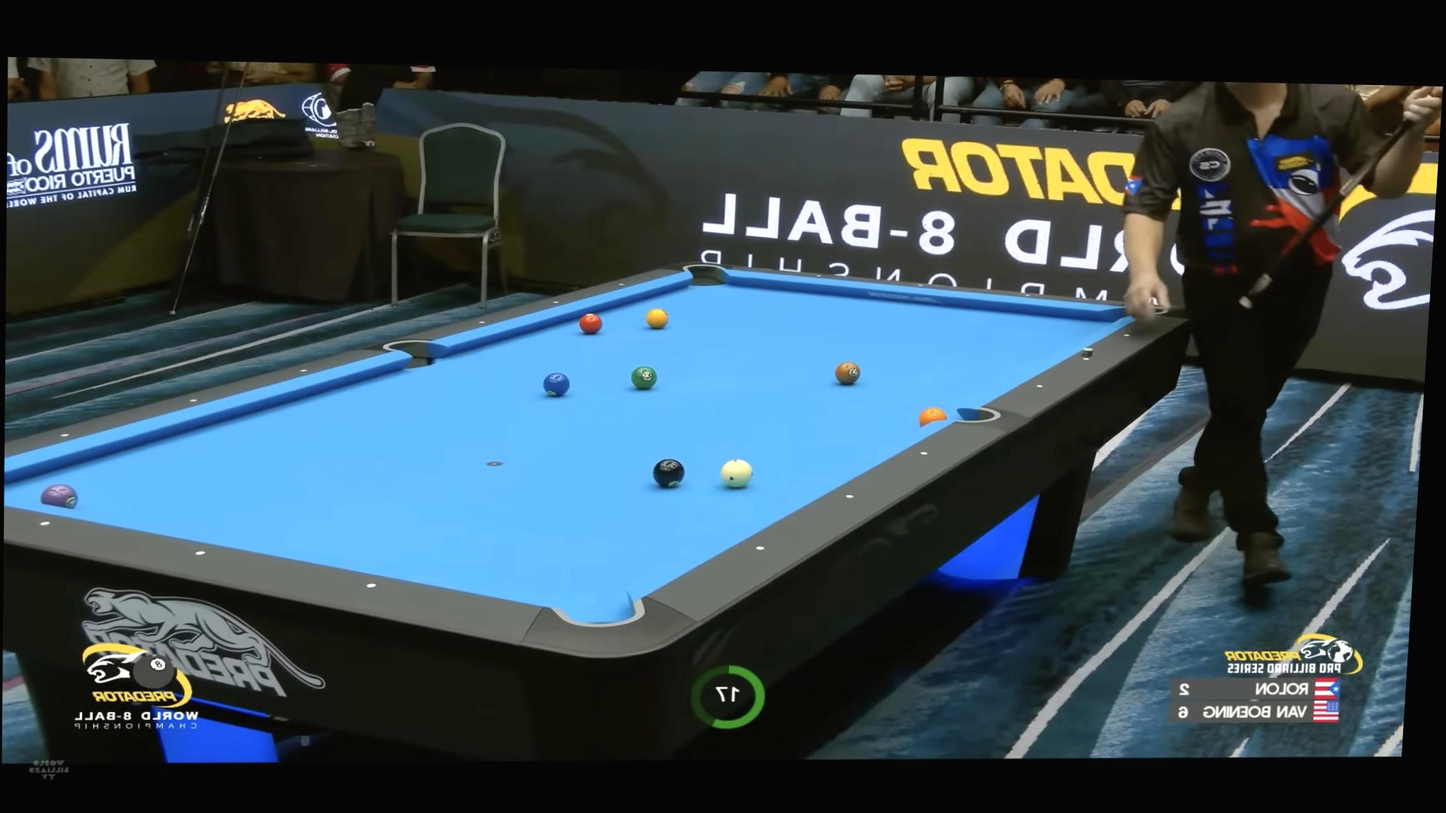Black: (652, 457, 686, 488)
Cue: (720, 458, 753, 489)
Solid: (754, 541, 767, 553), (843, 491, 856, 502), (917, 448, 930, 459), (365, 580, 377, 591), (59, 429, 70, 440), (39, 519, 51, 529), (195, 548, 206, 558), (617, 281, 625, 288), (1036, 383, 1043, 390), (1123, 332, 1130, 339), (478, 319, 485, 326), (552, 299, 559, 306), (1082, 356, 1090, 362), (190, 398, 197, 404), (300, 368, 307, 374), (1025, 293, 1031, 299), (917, 282, 923, 288), (816, 273, 822, 278)
Striped: (41, 484, 76, 509), (543, 372, 571, 397), (834, 360, 861, 385), (631, 365, 657, 389), (919, 407, 947, 428), (645, 308, 669, 329), (579, 313, 602, 334)
